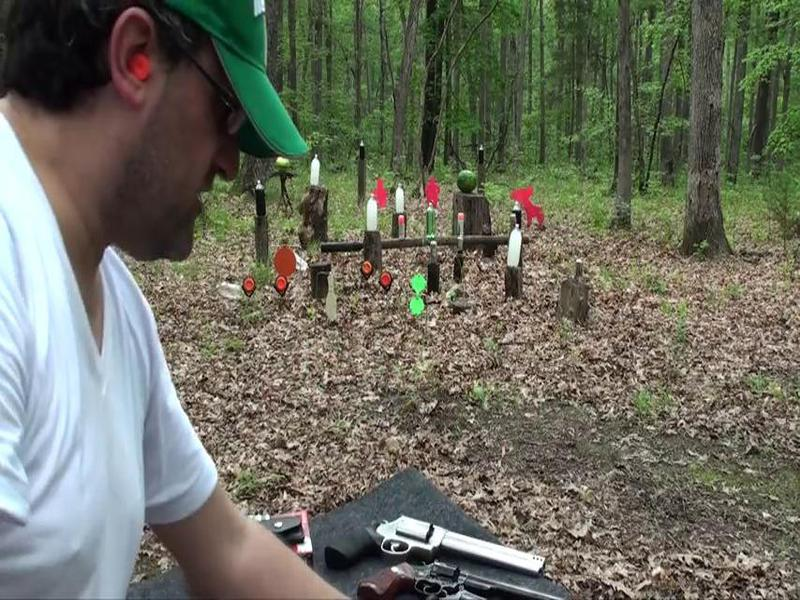Revolver: (322, 496, 558, 584)
